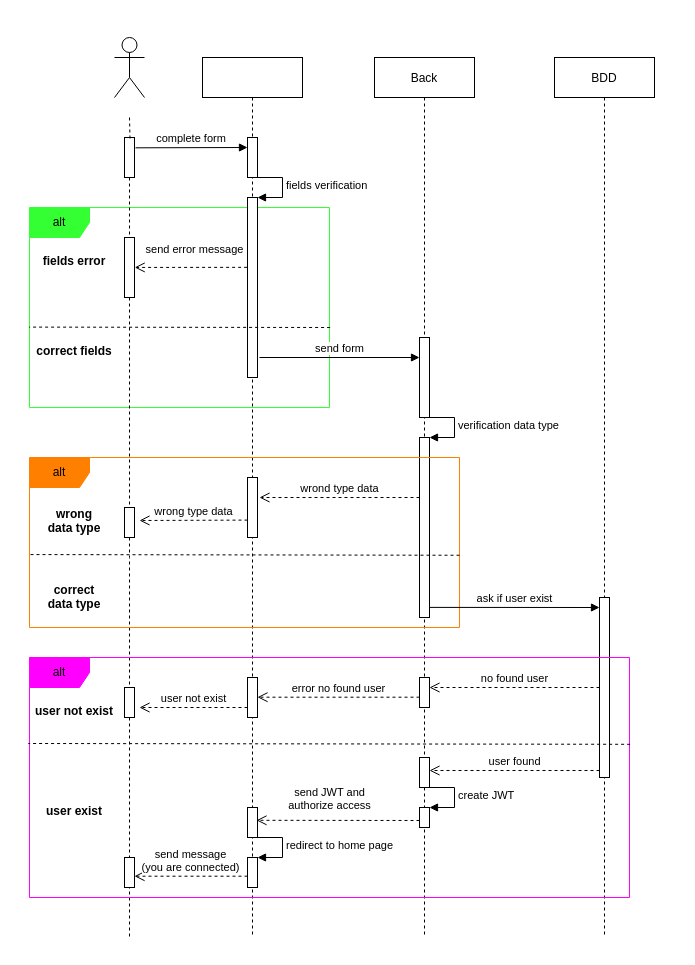
The diagram is 695 pixels wide and 965 high, and some of its shapes have lost their labels. The box of each missing label's shape, as (x1, y1, x2, y2) in pixels:
Customer: (114, 36, 144, 98)
Front: (202, 56, 302, 938)
